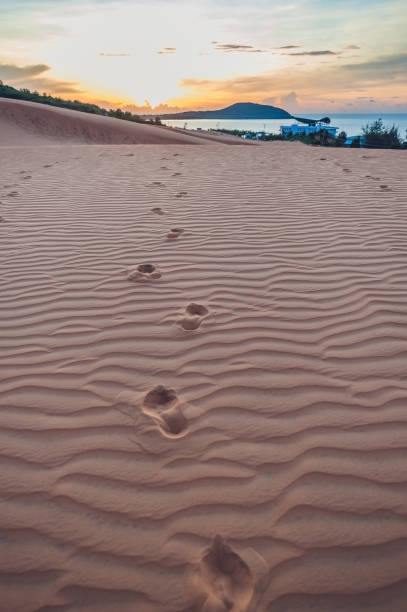human_footprint: (187, 535, 254, 611), (142, 385, 186, 437), (179, 302, 208, 330), (127, 263, 160, 280), (167, 228, 184, 240), (151, 207, 164, 215)
